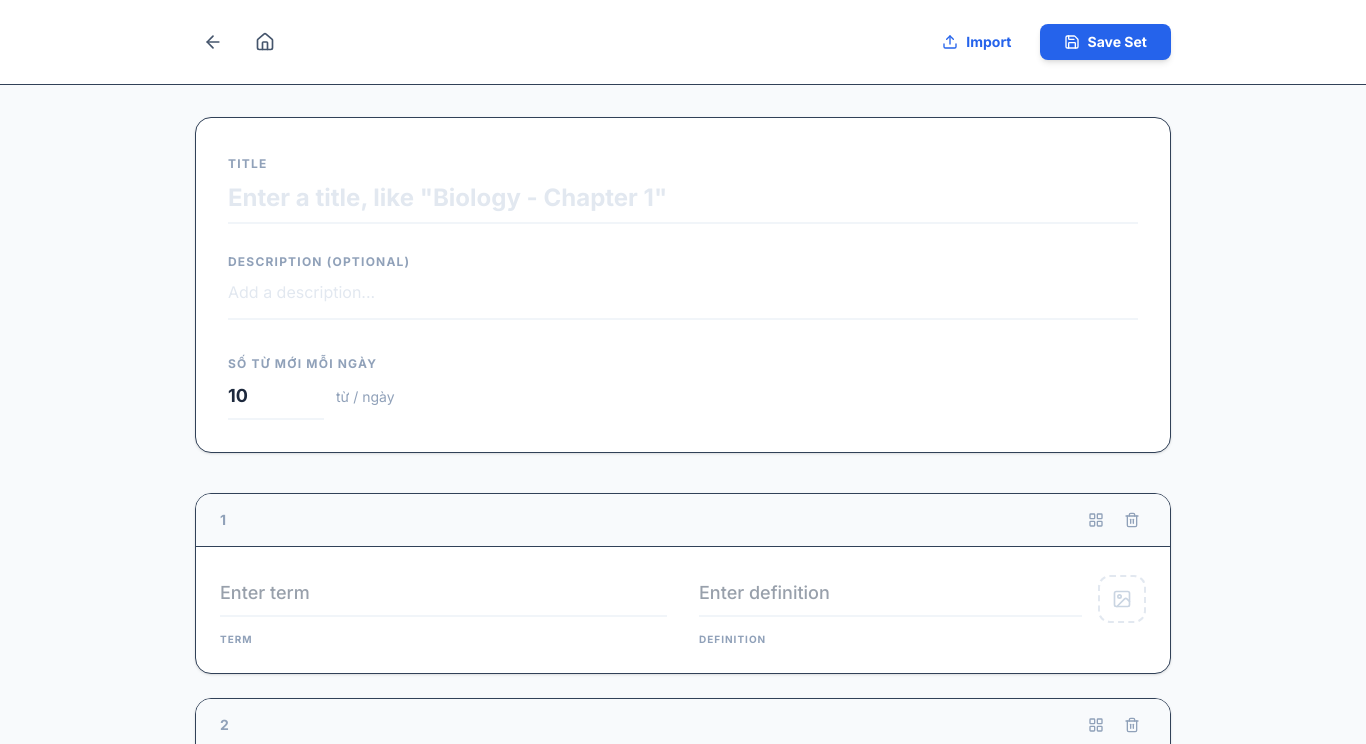
Test: SetEditor — handleSave › shows inline error on bad card row
This screenshot has width=1366, height=744.
Type "My Set" into the field with placeholder "Enter a title, like \"Biology - Chapter 1\"" at (683, 199), box [228,174,1138,224]
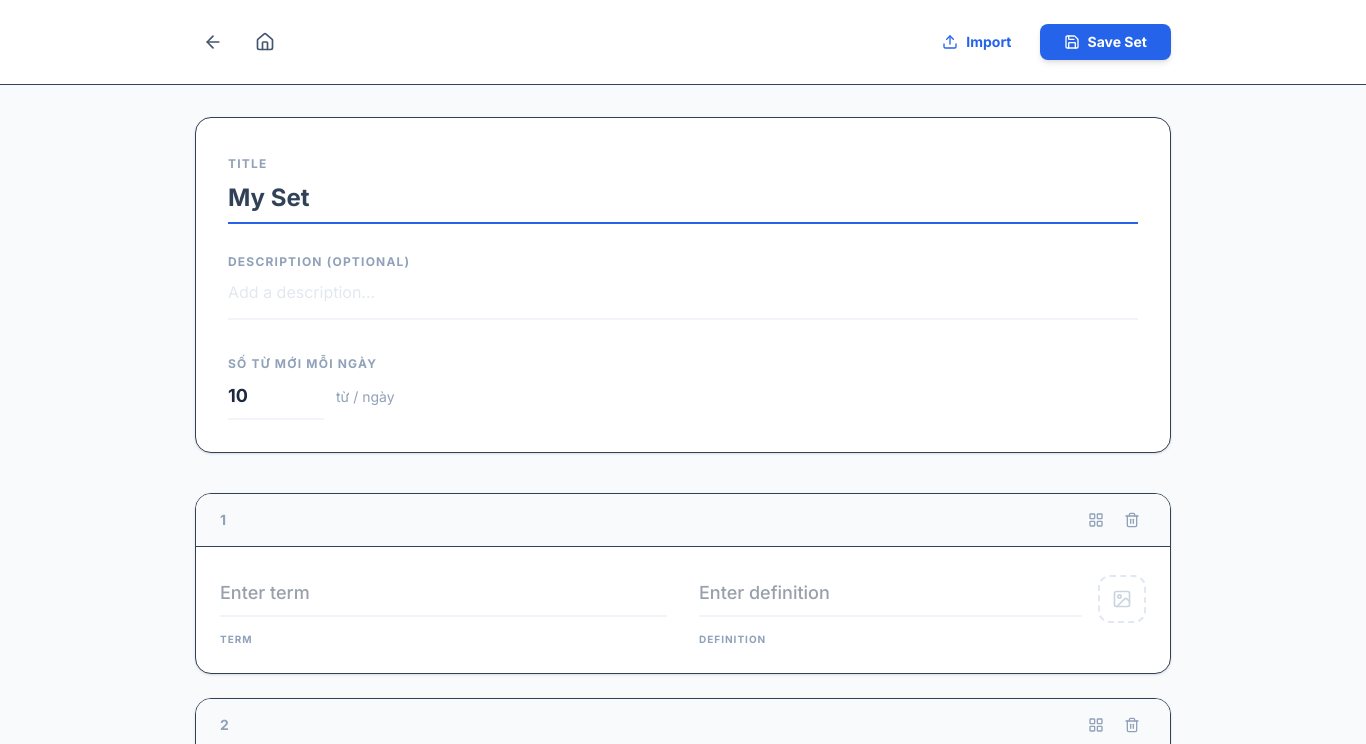
Fill only first card's term (no definition) — remaining 2 are also empty
Type "Word" into the field with placeholder "Enter term" at (444, 594), box [220,571,667,617]
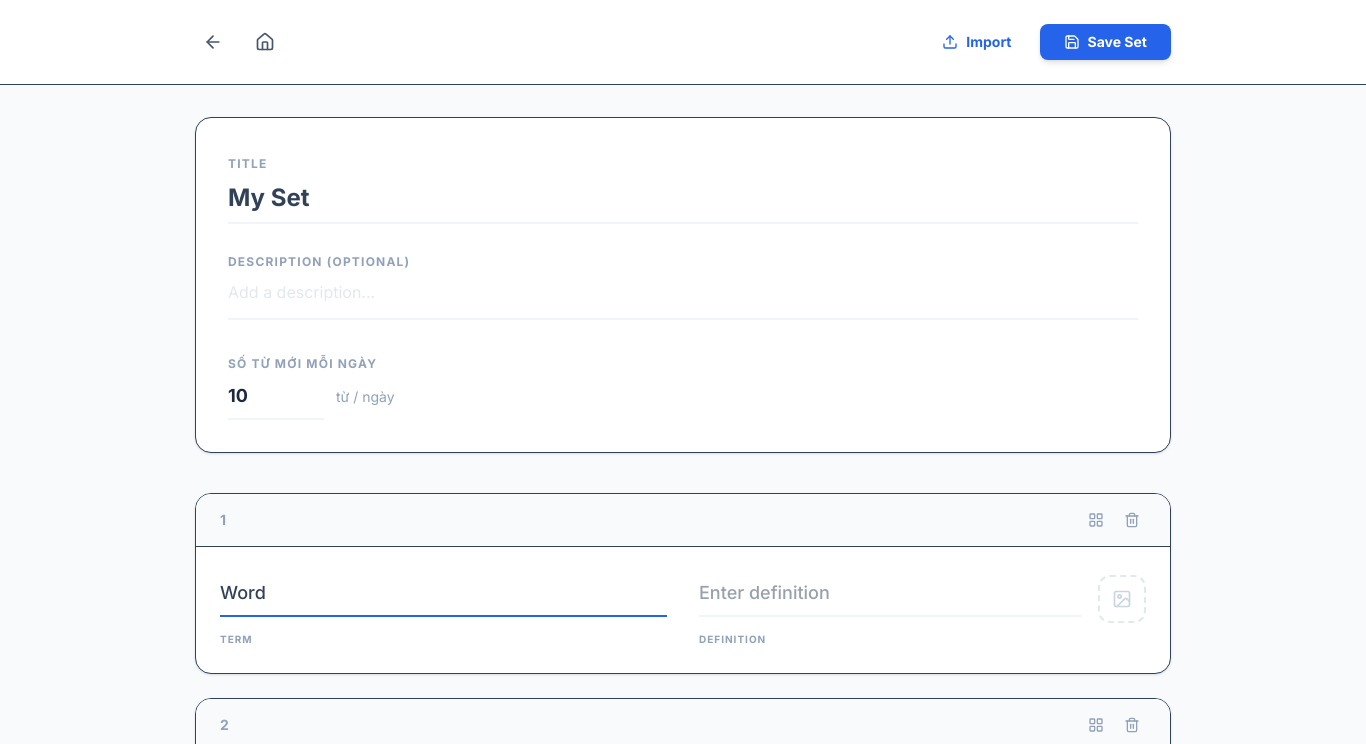
Click the button "Save Set" at (1105, 42), box [1040,24,1171,60]
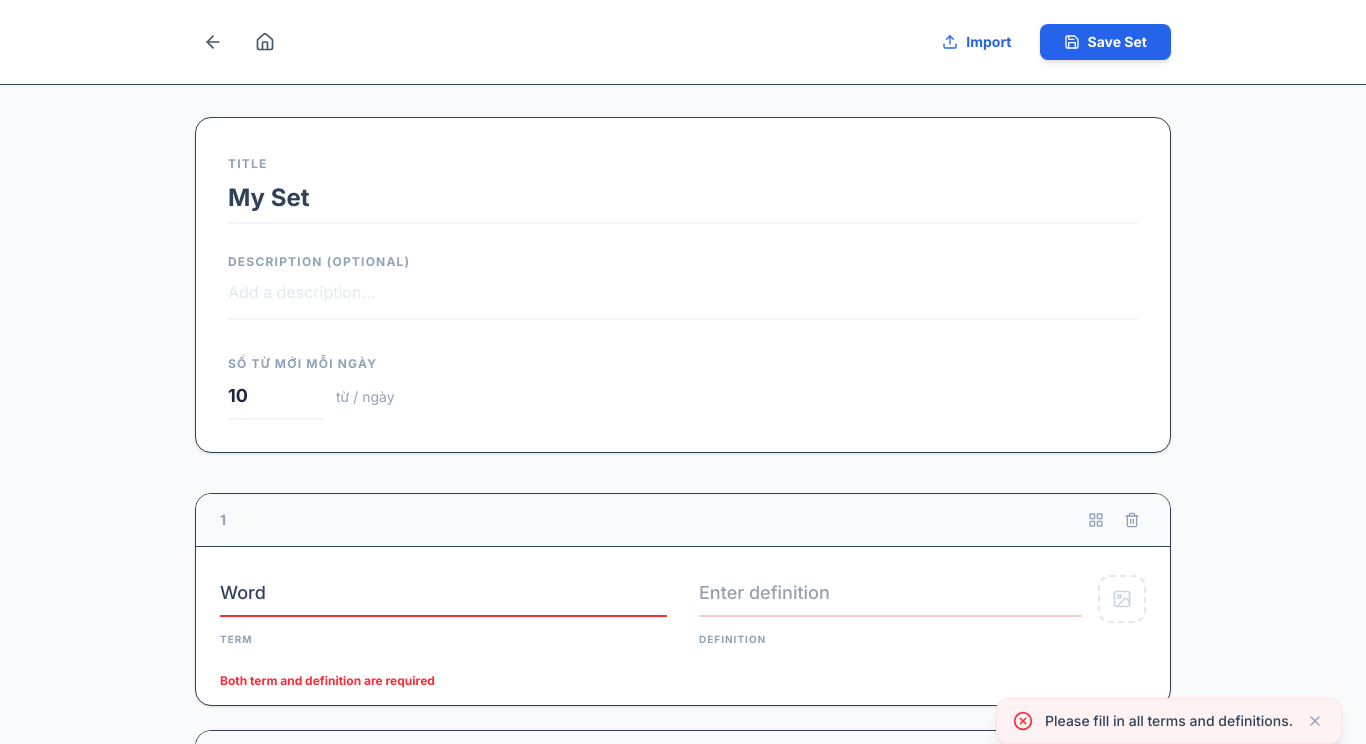
Result: the text "Both term and definition are required" is shown at [220,673,435,688]
